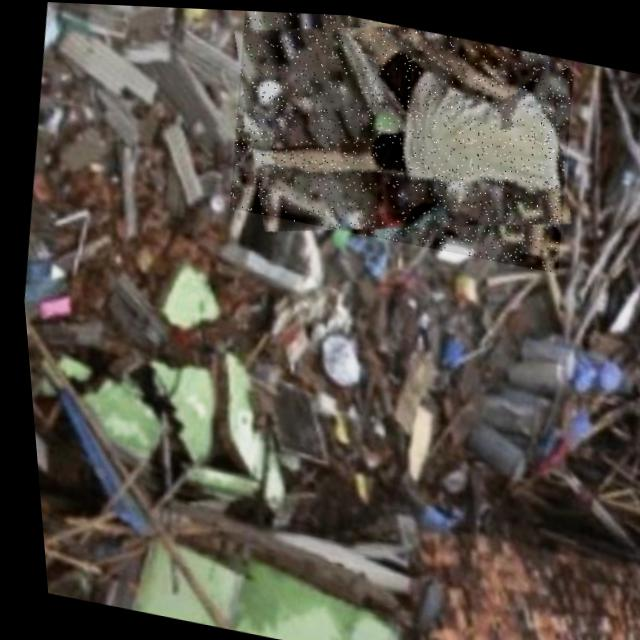Person in Rubble: (212, 7, 586, 270)
